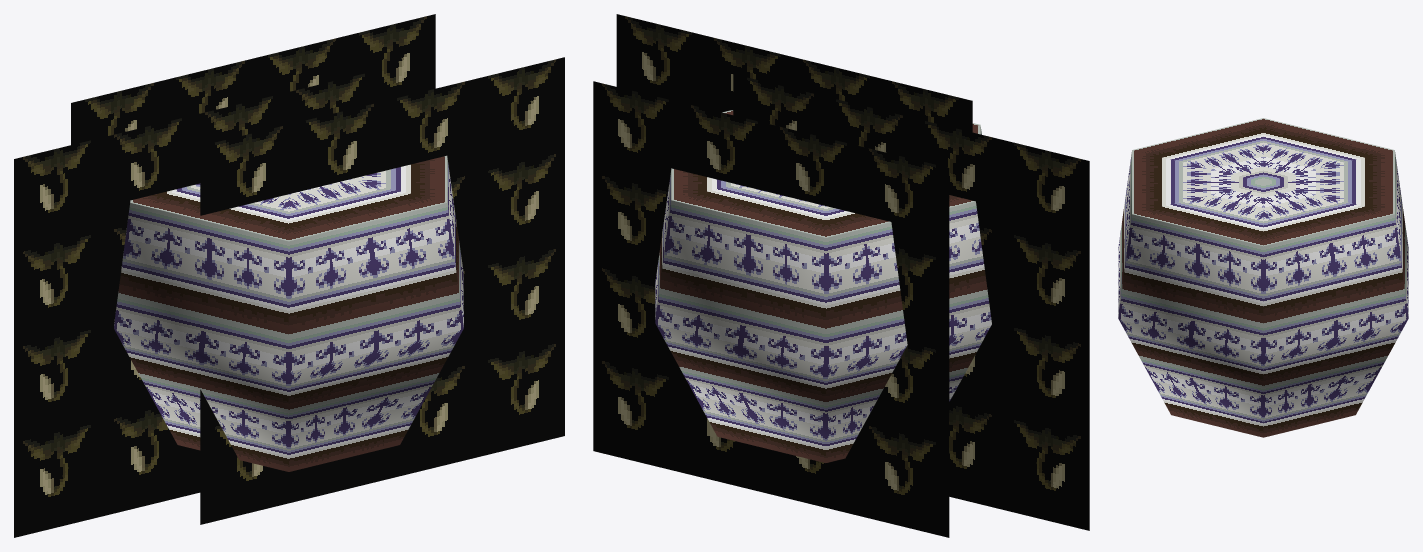
The model's file is 0436hana_r_marg_.gltf.
3 views of the same model, side by side, from view 1: azimuth 30°, elevation 25°; view 2: azimuth 150°, elevation 25°; view 3: azimuth 270°, elevation 25° (orthographic). The views are drawn at different scales.
Visible parts, largest first — view 1: 0436hana_r_marg_; view 2: 0436hana_r_marg_; view 3: 0436hana_r_marg_.
Part boxes in pixels (x1=…): 0436hana_r_marg_: x1=14, y1=14, x2=564, y2=537; 0436hana_r_marg_: x1=593, y1=14, x2=1089, y2=537; 0436hana_r_marg_: x1=1118, y1=118, x2=1408, y2=437.
Size of the model in its own units: 0.9326 by 0.6523 by 0.5459.
2 materials, 2 textured.
